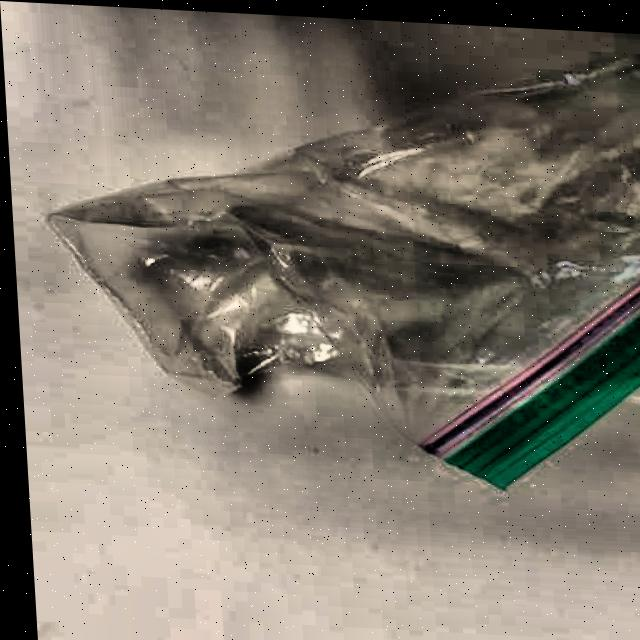paper: (29, 10, 640, 491)
